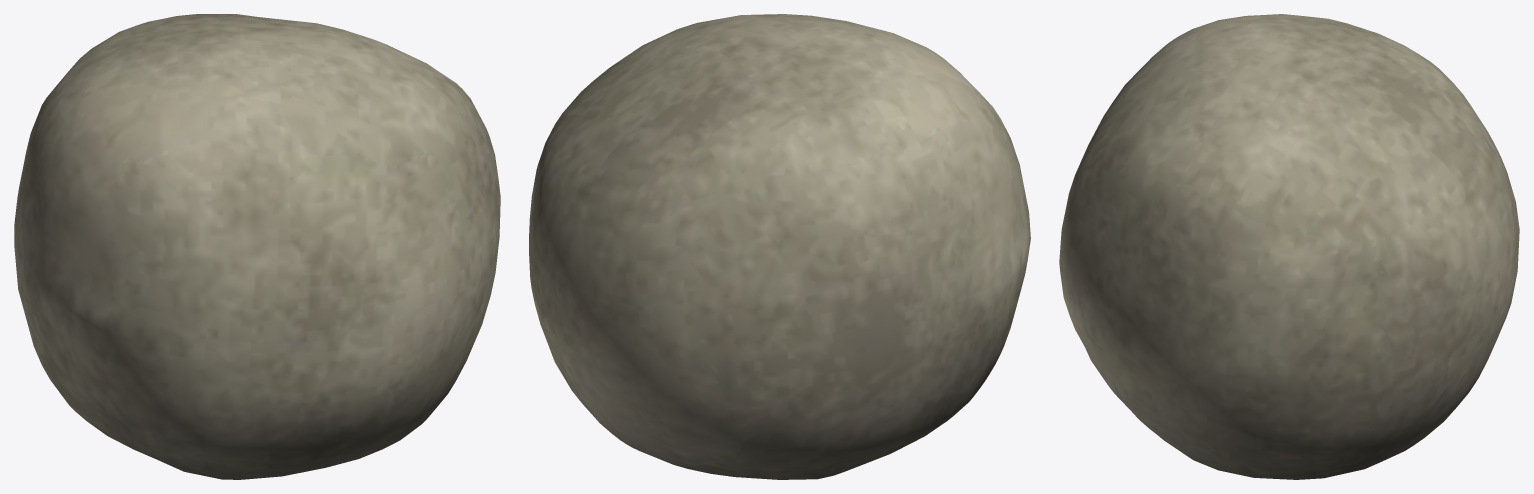
The model's file is simple-limestone-boulder-v001.glb.
3 views of the same model, side by side, from view 1: azimuth 30°, elevation 25°; view 2: azimuth 150°, elevation 25°; view 3: azimuth 270°, elevation 25° (orthographic). The views are drawn at different scales.
Parts seen in each view (by area): view 1: simple-limestone-boulder; view 2: simple-limestone-boulder; view 3: simple-limestone-boulder.
Part boxes in pixels (left/top/right/bottom): simple-limestone-boulder: left=14, top=14, right=500, bottom=479; simple-limestone-boulder: left=529, top=14, right=1030, bottom=479; simple-limestone-boulder: left=1059, top=14, right=1519, bottom=479.
Bounding box in the file's own units: 0.8694 × 0.7997 × 0.8684.
1 material, 1 textured.
